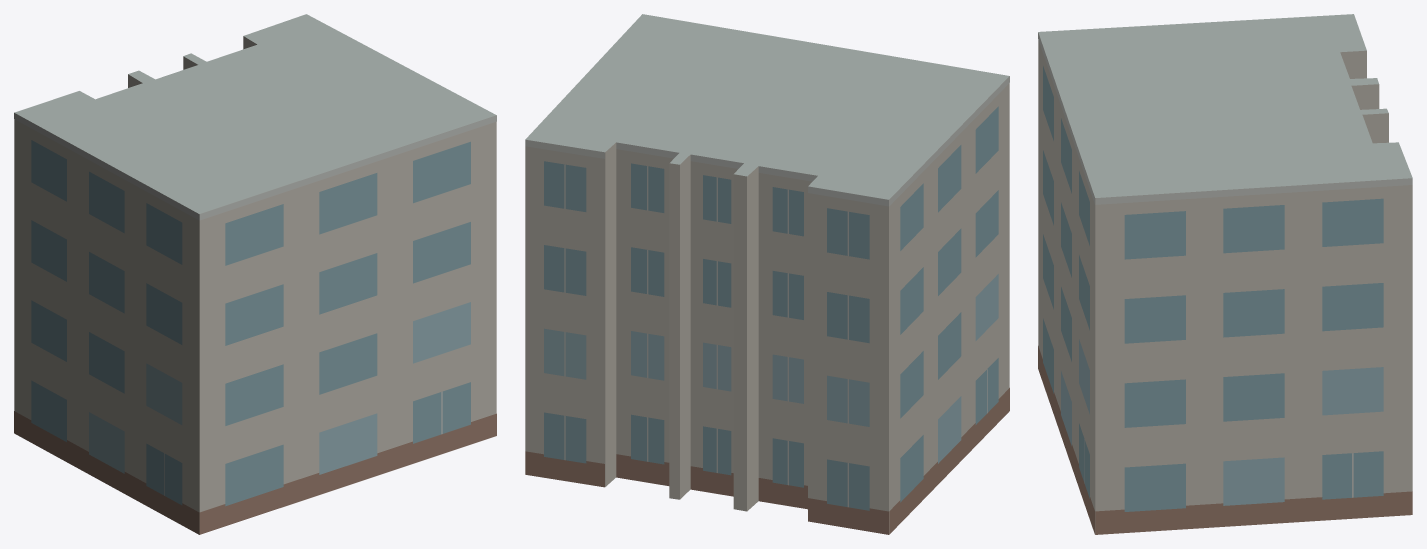
The model's file is survey-upis-32937687.glb.
3 views of the same model, side by side, from view 1: azimuth 30°, elevation 25°; view 2: azimuth 150°, elevation 25°; view 3: azimuth 270°, elevation 25° (orthographic). The views are drawn at different scales.
Parts seen in each view (by area): view 1: survey-upis-32937687.tmp; view 2: survey-upis-32937687.tmp; view 3: survey-upis-32937687.tmp.
Part boxes in pixels (x1=…): survey-upis-32937687.tmp: x1=14, y1=14, x2=496, y2=534; survey-upis-32937687.tmp: x1=525, y1=14, x2=1009, y2=534; survey-upis-32937687.tmp: x1=1038, y1=14, x2=1412, y2=534.
Bounding box in the file's own units: 14.31 × 12.2 × 12.31.
